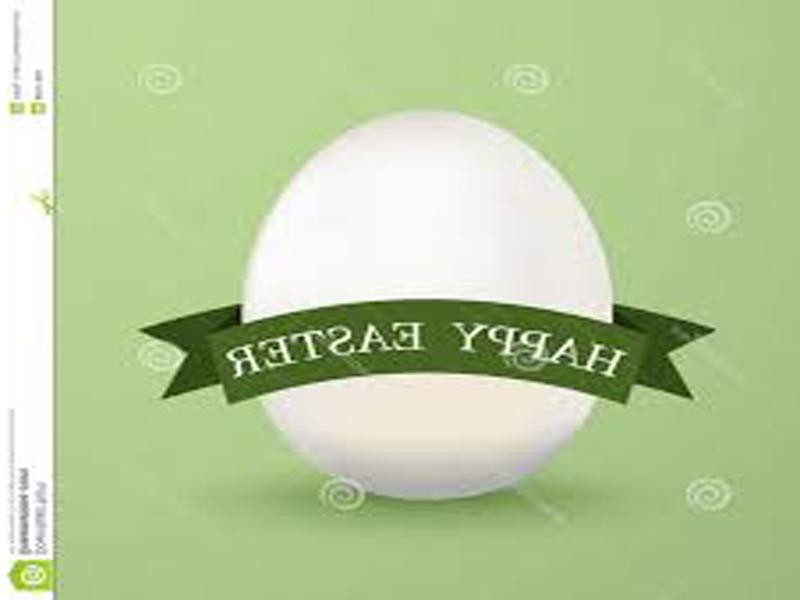Eggs: (240, 110, 608, 498)
